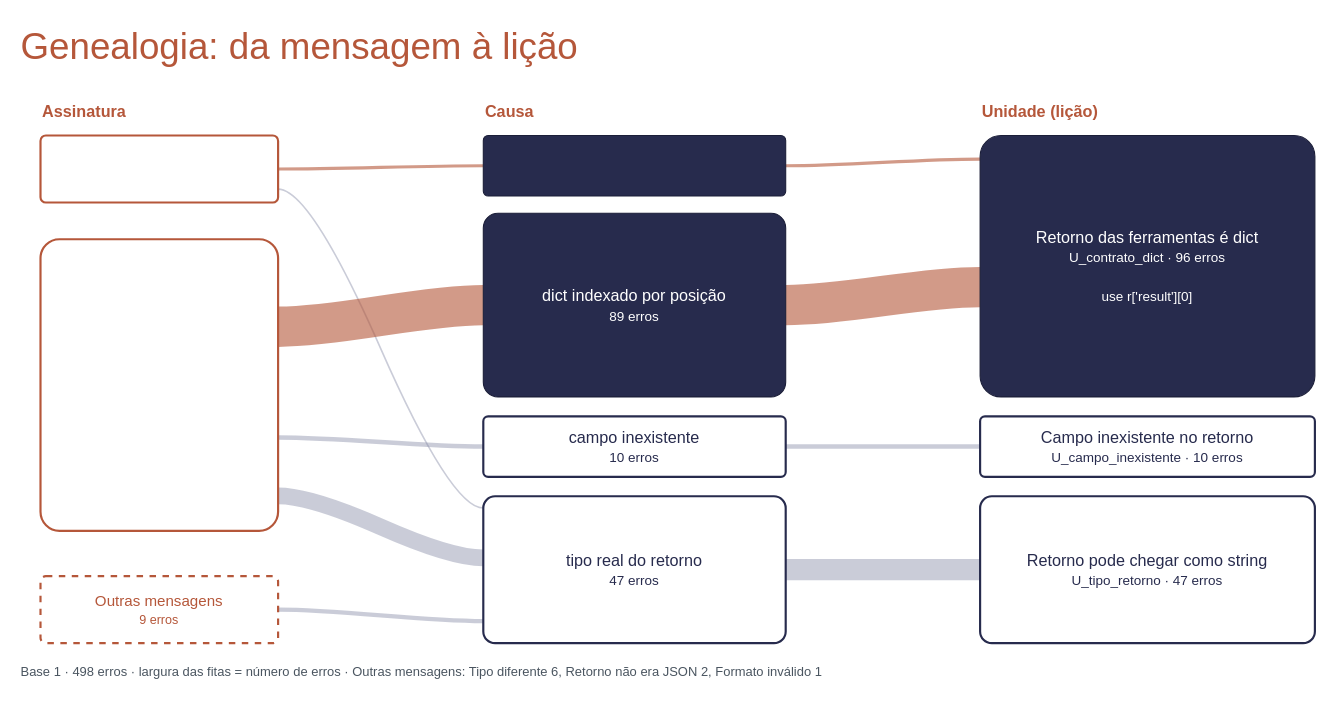
Image size: 1334x702. Some labels were removed from this diagram. Here are the shapes that lost their labels. From the top down, the centre of each, then its label:
At (x=159, y=168): "Objeto sem o atributo 8 erros".
At (x=634, y=165): "dict iterado como lista 7 erros".
At (x=159, y=384): "Could not index 136 erros".
